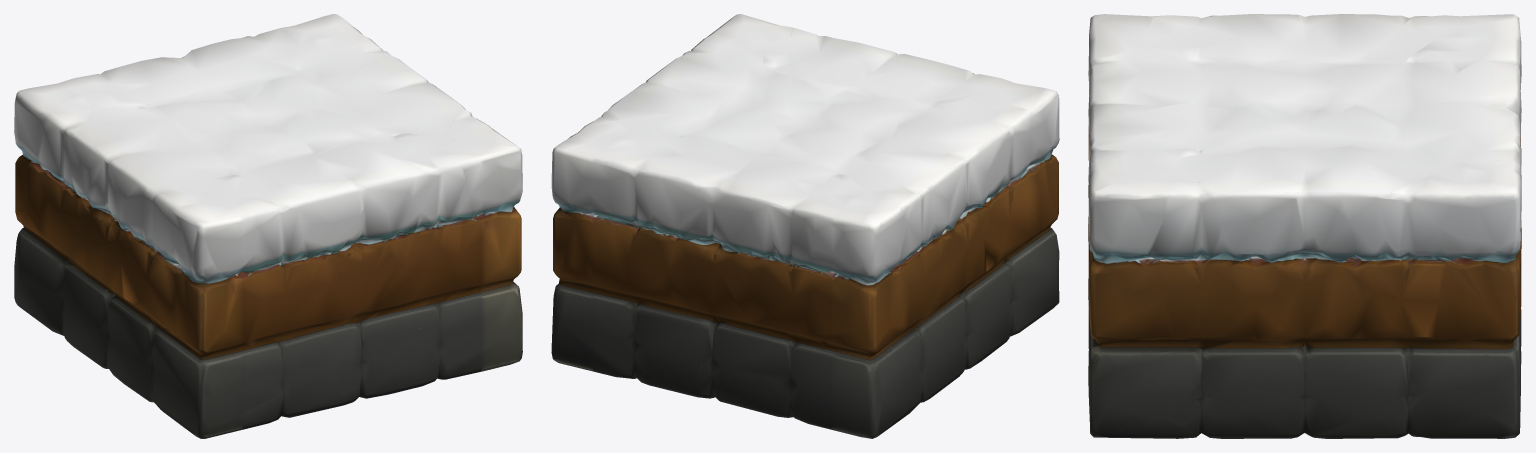
The model's file is Meshy_AI_Triple_Layer_Mattress_0518163722_texture.fbx.
3 renders of one model, left to right at view 1: azimuth 30°, elevation 25°; view 2: azimuth 150°, elevation 25°; view 3: azimuth 270°, elevation 25°, orthographic. The views are drawn at different scales.
Parts seen in each view (by area): view 1: Mesh_0.001; view 2: Mesh_0.001; view 3: Mesh_0.001.
Boxes of the visible parts, bbox=[...] form: Mesh_0.001: bbox=[14, 14, 522, 438]; Mesh_0.001: bbox=[551, 14, 1059, 438]; Mesh_0.001: bbox=[1088, 14, 1521, 438].
Bounding box in the file's own units: 159 × 100 × 159.
Materials: 1 (1 with a texture image).
